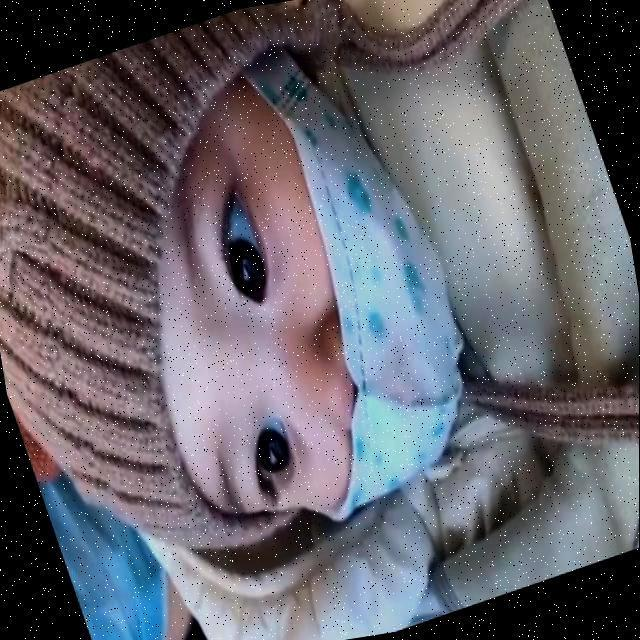mask: (335, 181, 461, 487), (175, 500, 314, 640)
